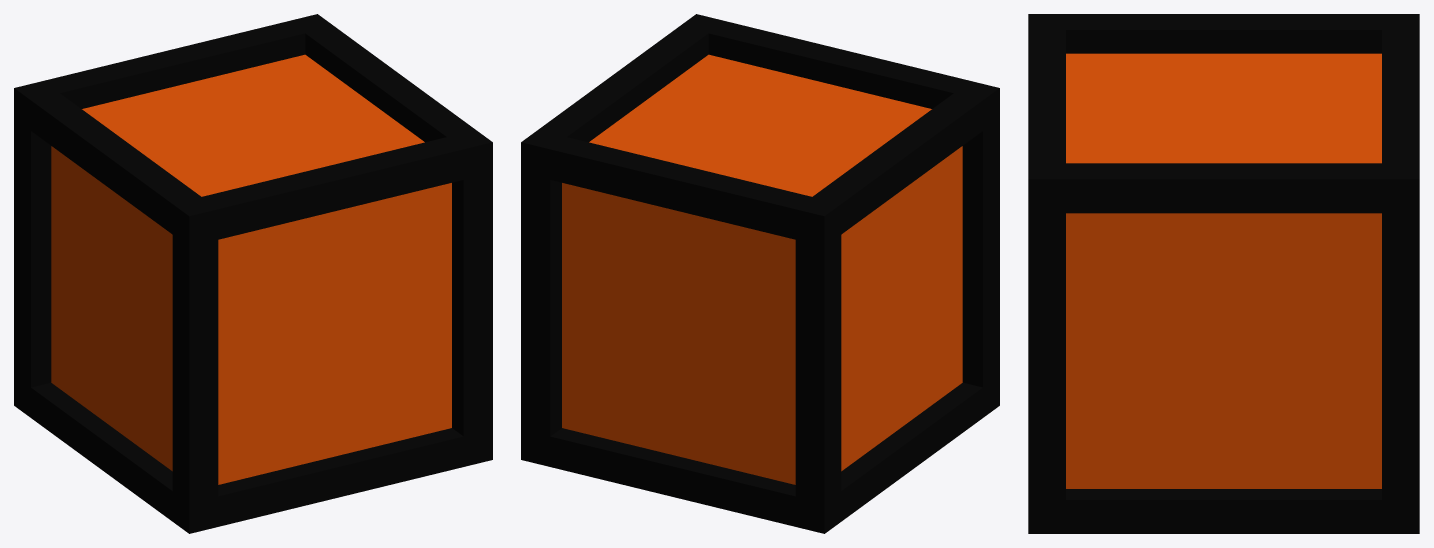
Rendered from PickupCube.FBX.
3 views of the same model, side by side, from view 1: azimuth 30°, elevation 25°; view 2: azimuth 150°, elevation 25°; view 3: azimuth 270°, elevation 25° (orthographic). The views are drawn at different scales.
Parts seen in each view (by area): view 1: PickupCubeSides, PickupCubeBorders; view 2: PickupCubeSides, PickupCubeBorders; view 3: PickupCubeSides, PickupCubeBorders.
Part boxes in pixels (x1,y1,x2,y2): PickupCubeSides: [51, 54, 451, 484]; PickupCubeBorders: [14, 14, 492, 533]; PickupCubeSides: [562, 54, 962, 484]; PickupCubeBorders: [521, 14, 999, 533]; PickupCubeSides: [1066, 53, 1381, 488]; PickupCubeBorders: [1028, 14, 1419, 533].
Size of the model in its own units: 0.75 by 0.75 by 0.75.
